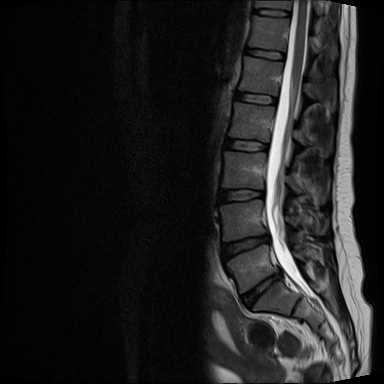Lumbar Disc Bulge (LDB): (231, 263, 289, 315), (212, 228, 279, 268)
Normal IVD: (213, 182, 269, 211), (226, 86, 282, 109), (220, 133, 273, 155), (239, 45, 289, 66), (251, 7, 294, 22)
Spinal Stenosis (SS): (269, 261, 286, 289), (259, 228, 277, 248)
